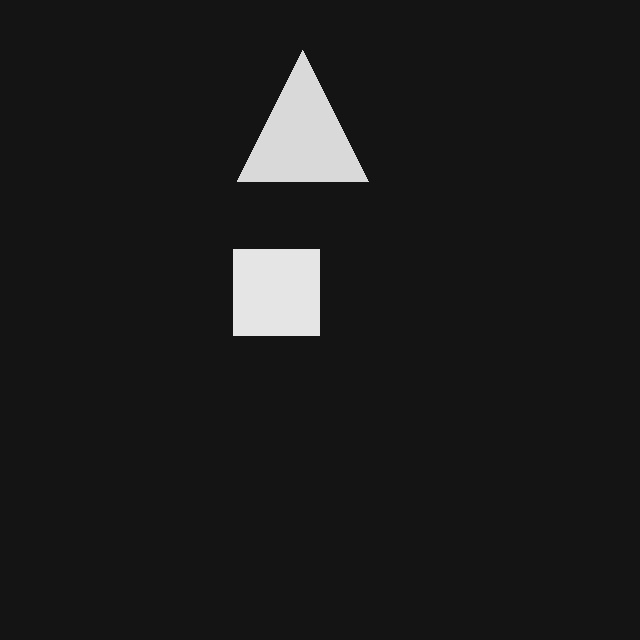square: (233, 249, 319, 335)
triangle: (237, 50, 368, 181)
